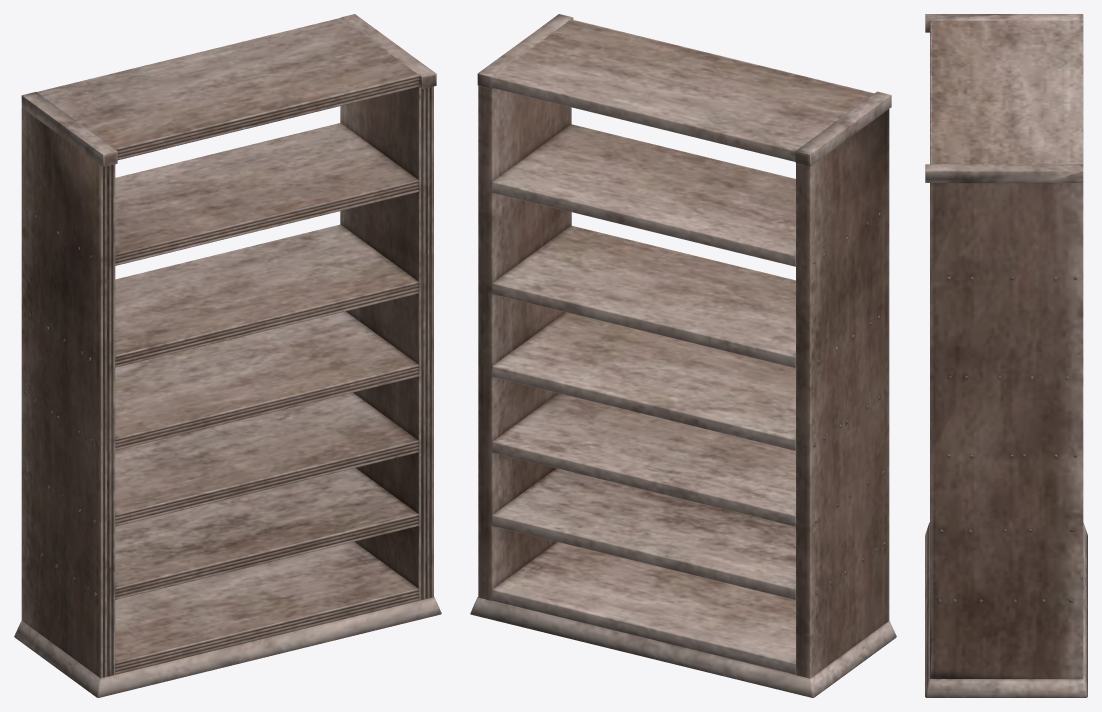
Rendered from bookshelf.glb.
3 renders of one model, left to right at view 1: azimuth 30°, elevation 25°; view 2: azimuth 150°, elevation 25°; view 3: azimuth 270°, elevation 25°, orthographic. The views are drawn at different scales.
Parts seen in each view (by area): view 1: wooden_bookshelf_worn; view 2: wooden_bookshelf_worn; view 3: wooden_bookshelf_worn.
Part boxes in pixels (bbox=[...]): wooden_bookshelf_worn: bbox=[14, 14, 441, 697]; wooden_bookshelf_worn: bbox=[470, 14, 896, 697]; wooden_bookshelf_worn: bbox=[925, 14, 1087, 697].
Size of the model in its own units: 1.37 by 2.06 by 0.5814.
Materials: 1 (1 with a texture image).
